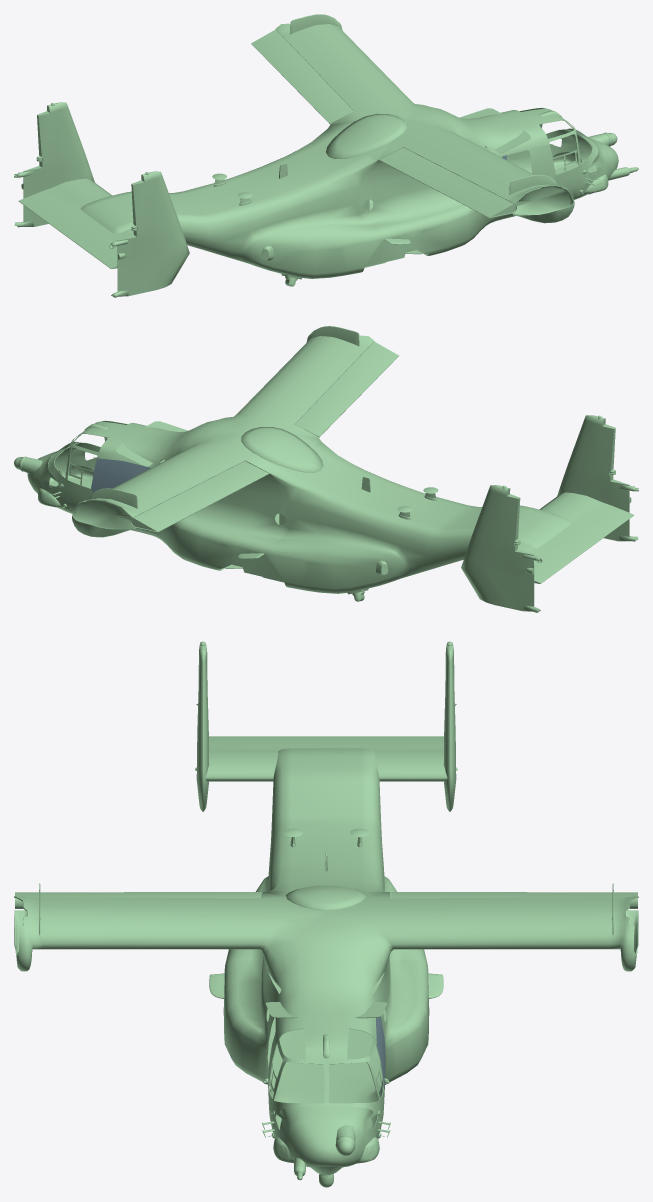
The model's file is outside.obj.
The picture shows the model from 3 angles, top to bottom: view 1: azimuth 30°, elevation 25°; view 2: azimuth 150°, elevation 25°; view 3: azimuth 270°, elevation 25°; orthographic projection. The views are drawn at different scales.
Parts seen in each view (by area): view 1: outside_base.061; view 2: outside_base.061; view 3: outside_base.061.
Part boxes in pixels (x1,y1,x2,y2): outside_base.061: (14, 14, 638, 297); outside_base.061: (14, 326, 638, 612); outside_base.061: (14, 641, 638, 1187).
Size of the model in its own units: 798 by 231 by 583.
